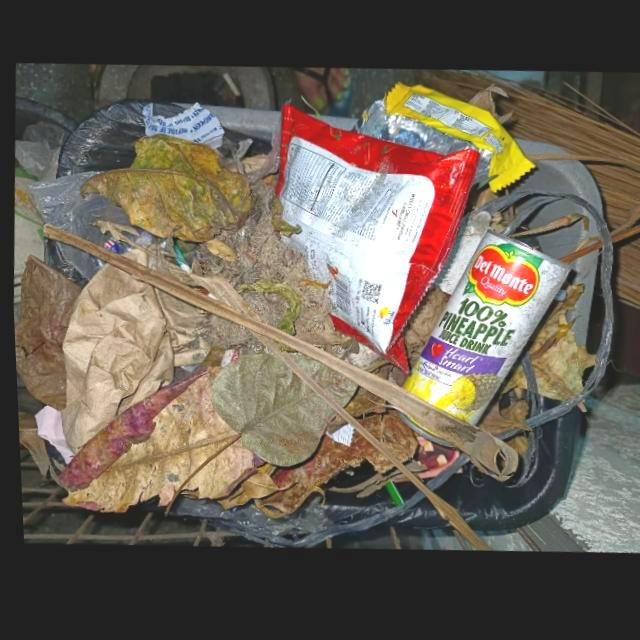aluminum: (390, 233, 570, 452)
food_wrapper: (272, 107, 480, 377), (349, 85, 534, 196)
paper: (56, 265, 210, 455), (429, 216, 489, 299), (31, 407, 71, 465)
plastic_bag: (27, 170, 132, 281)
